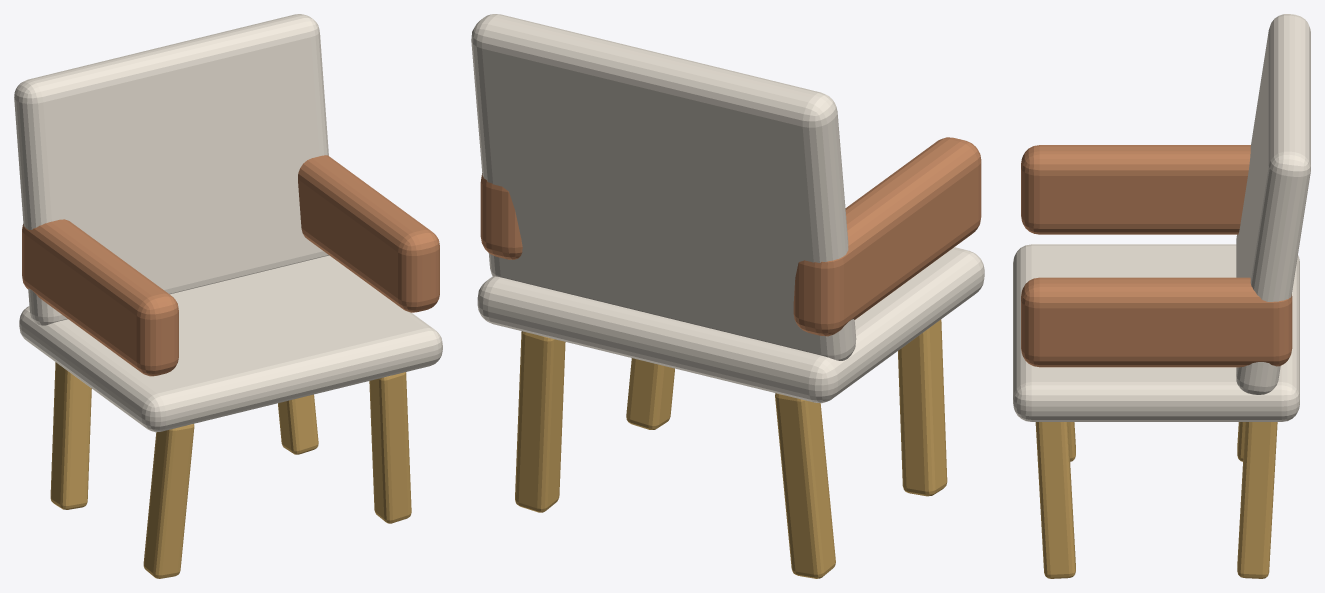
The model's file is lounge-chair.glb.
The picture shows the model from 3 angles, left to right: view 1: azimuth 30°, elevation 25°; view 2: azimuth 150°, elevation 25°; view 3: azimuth 270°, elevation 25°; orthographic projection. The views are drawn at different scales.
Visible parts, largest first — view 1: Upholstered back, Upholstered seat, Left walnut arm, Right walnut arm, Front left leg, Front right leg, Back left leg, Back right leg; view 2: Upholstered back, Upholstered seat, Left walnut arm, Back left leg, Back right leg, Front left leg, Front right leg, Right walnut arm; view 3: Upholstered seat, Right walnut arm, Left walnut arm, Upholstered back, Back right leg, Front right leg.
Part boxes in pixels (x1,y1,x2,y2): Upholstered back: [14, 14, 329, 325]; Upholstered seat: [19, 255, 442, 432]; Left walnut arm: [22, 219, 178, 376]; Right walnut arm: [298, 155, 439, 312]; Front left leg: [143, 424, 194, 578]; Front right leg: [369, 372, 411, 523]; Back left leg: [50, 362, 91, 509]; Back right leg: [278, 394, 318, 454]; Upholstered back: [471, 14, 856, 360]; Upholstered seat: [477, 247, 984, 403]; Left walnut arm: [793, 137, 981, 336]; Back left leg: [775, 393, 835, 578]; Back right leg: [515, 331, 565, 512]; Front left leg: [898, 319, 947, 496]; Front right leg: [626, 358, 674, 429]; Right walnut arm: [480, 173, 522, 259]; Upholstered seat: [1013, 244, 1299, 421]; Right walnut arm: [1021, 277, 1292, 367]; Left walnut arm: [1021, 145, 1250, 234]; Upholstered back: [1236, 14, 1310, 394]; Back right leg: [1237, 422, 1277, 578]; Front right leg: [1035, 422, 1075, 578].
Size of the model in its own units: 1.36 by 1.8 by 1.12.
